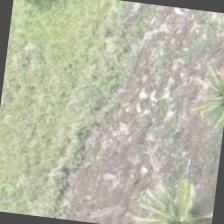Kelapa_Sawit: (175, 47, 223, 143), (128, 174, 217, 223)
